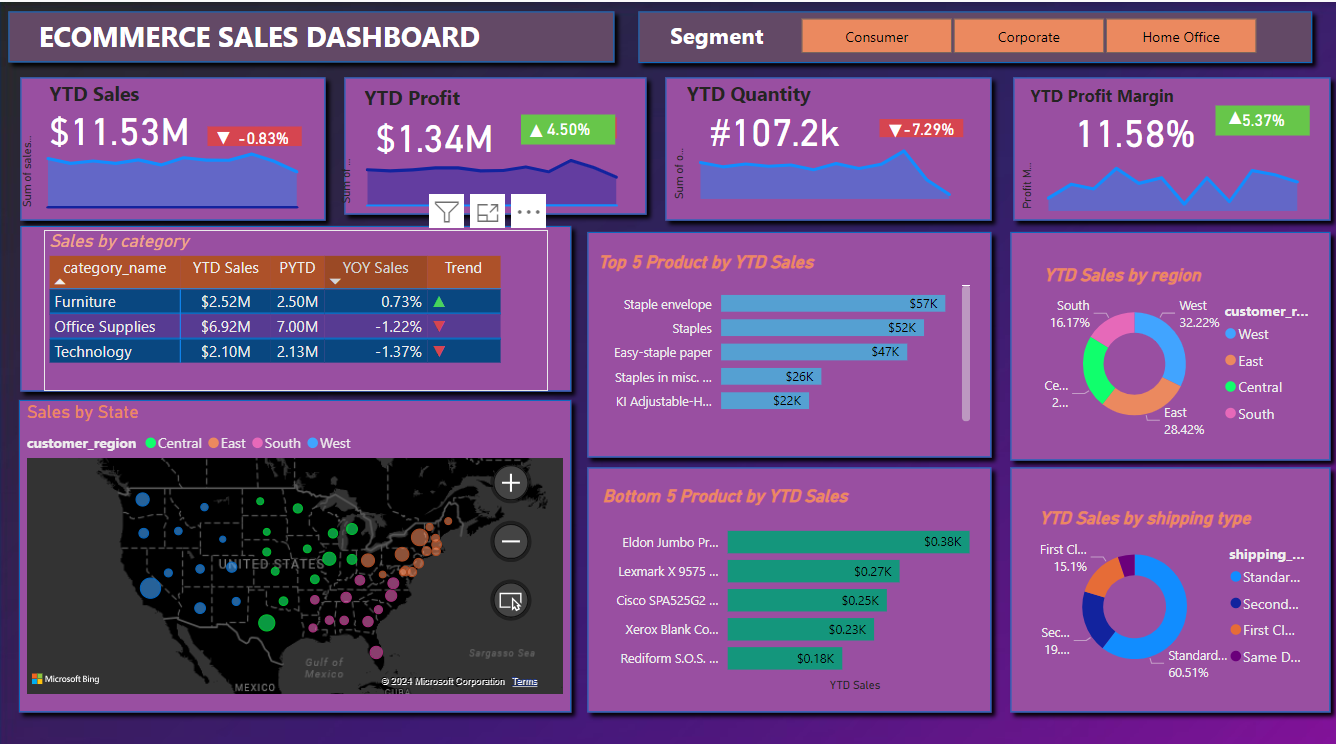

The dashboard page shown, as its layout file describes it:
{"tool":"powerbi","page":{"name":"Page 1","canvas":[1280,720],"ordinal":0},"visuals":[{"type":"shape","box":[0,0,596.6,66.6],"z":0},{"type":"textbox","box":[32.9,8.6,460.9,47.2],"z":1000},{"type":"shape","box":[11.5,63,309.2,154.6],"z":2000},{"type":"card","fields":{"Values":["ecommerce_data.YTD Sales"]},"box":[35.8,70.1,157.5,100.2],"z":3000},{"type":"areaChart","fields":{"Y":["Sum(ecommerce_data.sales_per_order)","Sum(calender.month number)"],"Category":["calender.month"]},"box":[15.7,113.1,282,88.7],"z":4000},{"type":"shape","box":[199,118.8,90.2,18.6],"z":5000},{"type":"card","fields":{"Values":["ecommerce_data.YOY Sales"]},"box":[183.2,105.9,137.4,48.7],"z":6000},{"type":"card","fields":{"Values":["ecommerce_data.Sales Icon"]},"box":[176.1,115.9,75.9,24.3],"z":7000},{"type":"textbox","box":[42.9,68.7,104.5,37.2],"z":8000},{"type":"shape","box":[320.6,63,306.3,148.9],"z":9000},{"type":"card","fields":{"Values":["ecommerce_data.YTD profit"]},"box":[336.4,77.3,157.5,98.8],"z":10000},{"type":"areaChart","fields":{"Y":["Sum(calender.month number)","Sum(ecommerce_data.profit_per_order)"],"Category":["calender.month"]},"box":[320.6,133.1,282,67.3],"z":11000},{"type":"shape","box":[499.6,110.2,90.2,20],"z":12000},{"type":"card","fields":{"Values":["ecommerce_data.YOY Profit"]},"box":[498.1,107.4,90.2,28.6],"z":13000},{"type":"card","fields":{"Values":["ecommerce_data.profit Icon"]},"box":[481,110.2,63,27.2],"z":14000},{"type":"textbox","box":[343.5,73,118.8,37.2],"z":15000},{"type":"shape","box":[627,63,329.2,154.6],"z":16000},{"type":"card","fields":{"Values":["ecommerce_data.YTD Conacatenated Qty"]},"box":[661.7,71.2,157.5,99.9],"z":17000},{"type":"areaChart","fields":{"Category":["calender.month"],"Y":["Sum(ecommerce_data.order_quantity)"]},"box":[638.4,126,282,67.3],"z":18000},{"type":"shape","box":[840.2,111.7,80.2,17.2],"z":19000},{"type":"card","fields":{"Values":["ecommerce_data.YOY Qty"]},"box":[841.7,107.4,90.2,28.6],"z":20000},{"type":"textbox","box":[651.1,68.1,139.3,37.9],"z":21000},{"type":"shape","box":[959,63,320.6,154.6],"z":22000},{"type":"card","fields":{"Values":["ecommerce_data.YTD Profit margin"]},"box":[1004.9,71.6,157.5,100.2],"z":23000},{"type":"areaChart","fields":{"Category":["calender.month"],"Y":["ecommerce_data.Profit Margin"]},"box":[970.5,137.4,282,67.3],"z":24000},{"type":"shape","box":[1180.9,111.7,64.4,12.9],"z":25000},{"type":"card","fields":{"Values":["ecommerce_data.YOY Profit margin"]},"box":[1162.3,98.8,90.2,28.6],"z":26000},{"type":"textbox","box":[979.1,73,181.8,38.6],"z":27000},{"type":"card","fields":{"Values":["ecommerce_data.Qty Icon"]},"box":[823.1,110.2,64.4,27.2],"z":28000},{"type":"card","fields":{"Values":["ecommerce_data.Profit margin Icon"]},"box":[1140.8,95.9,80.2,31.5],"z":29000},{"type":"shape","box":[11.5,204.7,543.9,176.1],"z":30000},{"type":"pivotTable","title":"Sales by category","fields":{"Rows":["ecommerce_data.category_name"],"Values":["ecommerce_data.YTD Sales","ecommerce_data.PYTD","ecommerce_data.YOY Sales","ecommerce_data.Sales Icon"]},"box":[42.9,217.6,481,153.2],"z":31000},{"type":"shape","box":[10,370.7,545.4,316.3],"z":32000},{"type":"map","title":"Sales by State","fields":{"Y":["us_state_long_lat_codes.latitude"],"X":["us_state_long_lat_codes.longitude"],"Size":["ecommerce_data.YTD Sales"],"Series":["ecommerce_data.customer_region"]},"box":[21.5,380.8,522.5,284.9],"z":33000},{"type":"shape","box":[552.5,210.4,403.7,233.3],"z":34000},{"type":"shape","box":[552.5,435.1,403.7,251.9],"z":35000},{"type":"barChart","title":"Top 5 Product by YTD Sales","fields":{"Category":["ecommerce_data.product_name"],"Y":["ecommerce_data.YTD Sales"]},"box":[566.8,237.6,365,167.5],"z":36000},{"type":"barChart","title":"Bottom 5 Product by YTD Sales","fields":{"Category":["ecommerce_data.product_name"],"Y":["ecommerce_data.YTD Sales"]},"box":[571.1,460.9,372.2,201.8],"z":37000},{"type":"shape","box":[956.2,210.4,323.5,236.2],"z":38000},{"type":"shape","box":[956.2,435.1,323.5,251.9],"z":39000},{"type":"donutChart","title":"YTD Sales by region","fields":{"Category":["ecommerce_data.customer_region"],"Y":["ecommerce_data.YTD Sales"]},"box":[993.3,251.4,269.5,169.6],"z":40000},{"type":"donutChart","title":"YTD Sales by shipping type","fields":{"Y":["ecommerce_data.YTD Sales"],"Category":["ecommerce_data.shipping_type"]},"box":[988.8,483,269.5,169.6],"z":41000},{"type":"shape","box":[601.2,0,661.3,67.3],"z":42000},{"type":"slicer","fields":{"Values":["ecommerce_data.customer_segment"]},"box":[740,8.6,483.8,47.2],"z":43000},{"type":"textbox","box":[635.5,11.5,151.7,41.5],"z":44000}]}

Visuals, with their boxes in screenshot pixels (x1, y1, x2, y2), scaled from the page's 1280x720 canvas onto the 1336x744 screenshot:
shape: <box>0,0,623,69</box>
textbox: <box>34,9,515,58</box>
shape: <box>12,65,335,225</box>
card - ecommerce_data.YTD Sales: <box>37,72,202,176</box>
areaChart - Sum(ecommerce_data.sales_per_order) x Sum(calender.month number): <box>16,117,311,209</box>
shape: <box>208,123,302,142</box>
card - ecommerce_data.YOY Sales: <box>191,109,335,160</box>
card - ecommerce_data.Sales Icon: <box>184,120,263,145</box>
textbox: <box>45,71,154,109</box>
shape: <box>335,65,654,219</box>
card - ecommerce_data.YTD profit: <box>351,80,516,182</box>
areaChart - Sum(calender.month number) x Sum(ecommerce_data.profit_per_order): <box>335,138,629,207</box>
shape: <box>521,114,616,135</box>
card - ecommerce_data.YOY Profit: <box>520,111,614,141</box>
card - ecommerce_data.profit Icon: <box>502,114,568,142</box>
textbox: <box>359,75,483,114</box>
shape: <box>654,65,998,225</box>
card - ecommerce_data.YTD Conacatenated Qty: <box>691,74,855,177</box>
areaChart - calender.month x Sum(ecommerce_data.order_quantity): <box>666,130,961,200</box>
shape: <box>877,115,961,133</box>
card - ecommerce_data.YOY Qty: <box>879,111,973,141</box>
textbox: <box>680,70,825,110</box>
shape: <box>1001,65,1335,225</box>
card - ecommerce_data.YTD Profit margin: <box>1049,74,1213,178</box>
areaChart - calender.month x ecommerce_data.Profit Margin: <box>1013,142,1307,212</box>
shape: <box>1233,115,1300,129</box>
card - ecommerce_data.YOY Profit margin: <box>1213,102,1307,132</box>
textbox: <box>1022,75,1212,115</box>
card - ecommerce_data.Qty Icon: <box>859,114,926,142</box>
card - ecommerce_data.Profit margin Icon: <box>1191,99,1274,132</box>
shape: <box>12,212,580,393</box>
"Sales by category" pivotTable: <box>45,225,547,383</box>
shape: <box>10,383,580,710</box>
"Sales by State" map: <box>22,393,568,688</box>
shape: <box>577,217,998,458</box>
shape: <box>577,450,998,710</box>
"Top 5 Product by YTD Sales" barChart: <box>592,246,973,419</box>
"Bottom 5 Product by YTD Sales" barChart: <box>596,476,985,685</box>
shape: <box>998,217,1335,461</box>
shape: <box>998,450,1335,710</box>
"YTD Sales by region" donutChart: <box>1037,260,1318,435</box>
"YTD Sales by shipping type" donutChart: <box>1032,499,1313,674</box>
shape: <box>628,0,1318,70</box>
slicer - ecommerce_data.customer_segment: <box>772,9,1277,58</box>
textbox: <box>663,12,822,55</box>
